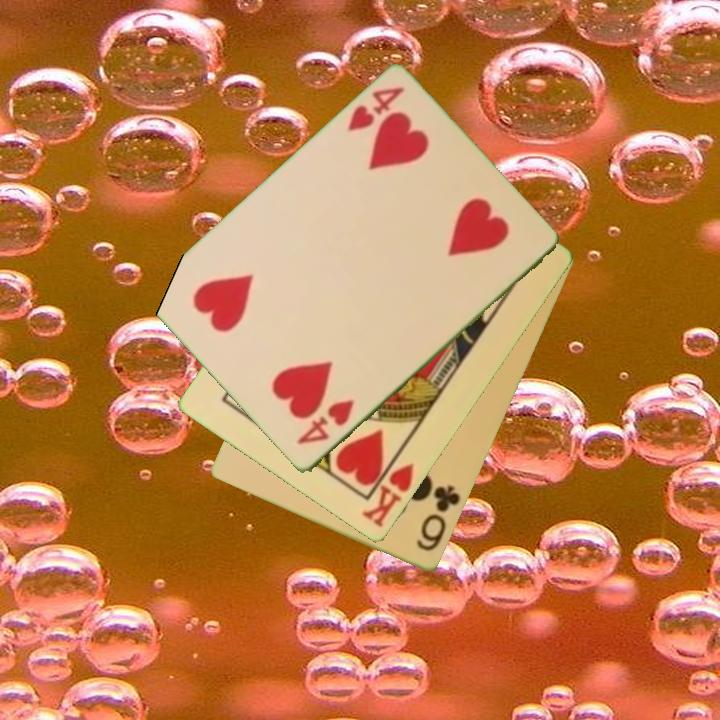4h: (293, 396, 358, 448), (344, 83, 407, 135)
6c: (412, 482, 464, 555)
Kh: (358, 448, 417, 531)
